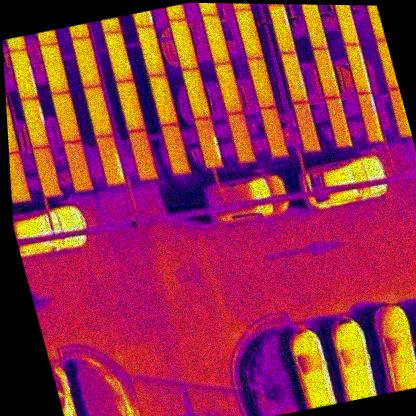Diode: (19, 97, 52, 149), (94, 134, 125, 186), (8, 47, 39, 99), (193, 116, 223, 169), (344, 41, 372, 94), (279, 51, 308, 102), (267, 4, 295, 55), (357, 92, 385, 142)
Hotspot: (102, 30, 133, 84)
Normal: (125, 128, 159, 183), (180, 66, 212, 122), (38, 41, 71, 95), (147, 72, 179, 127), (61, 140, 94, 193), (258, 104, 290, 158), (225, 111, 257, 165), (50, 90, 82, 144), (311, 45, 341, 102), (160, 121, 191, 176), (115, 78, 146, 133), (83, 84, 114, 139), (135, 23, 166, 78), (213, 61, 244, 115), (168, 17, 199, 71), (70, 36, 101, 89), (31, 146, 63, 197), (202, 11, 231, 66), (247, 56, 277, 109), (234, 8, 264, 60), (323, 95, 352, 148), (292, 101, 320, 154), (301, 4, 328, 52), (9, 150, 32, 203), (332, 5, 359, 46), (6, 102, 19, 153)
